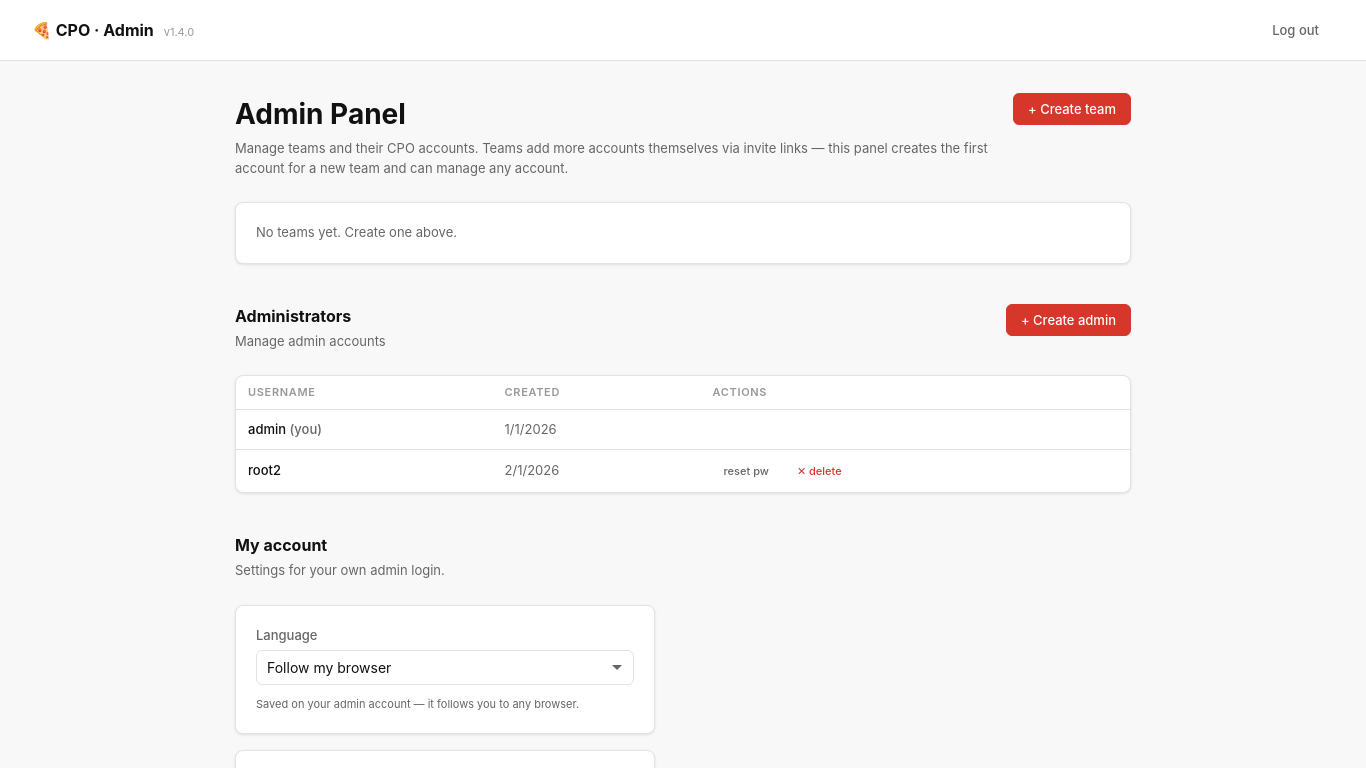
Test: AdminPanel › creating a team › hides form after successful create
Click the button "+ Create team".
click(1072, 109)  # box [1013, 93, 1131, 125]
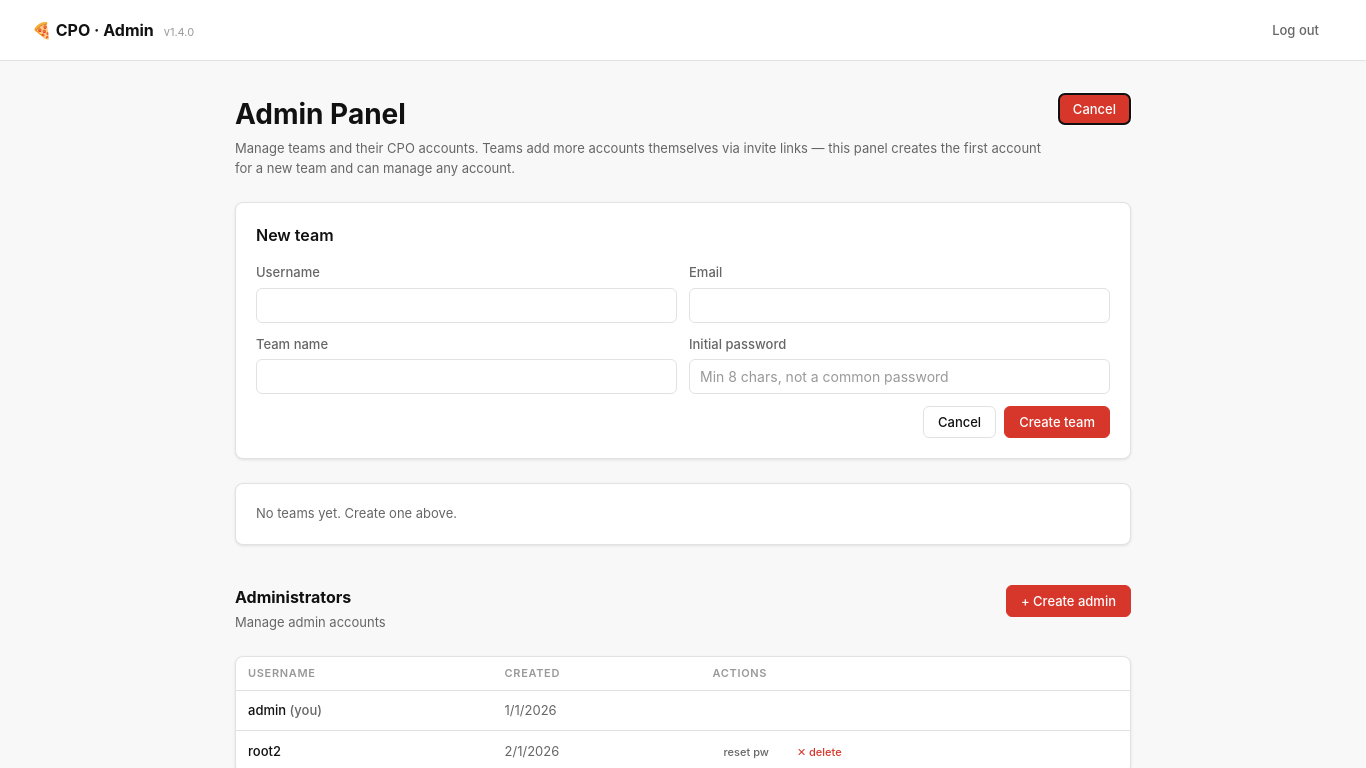
Type "newcpo" into the field labelled "Username".
click(466, 305); type("newcpo")  # box [256, 288, 677, 322]
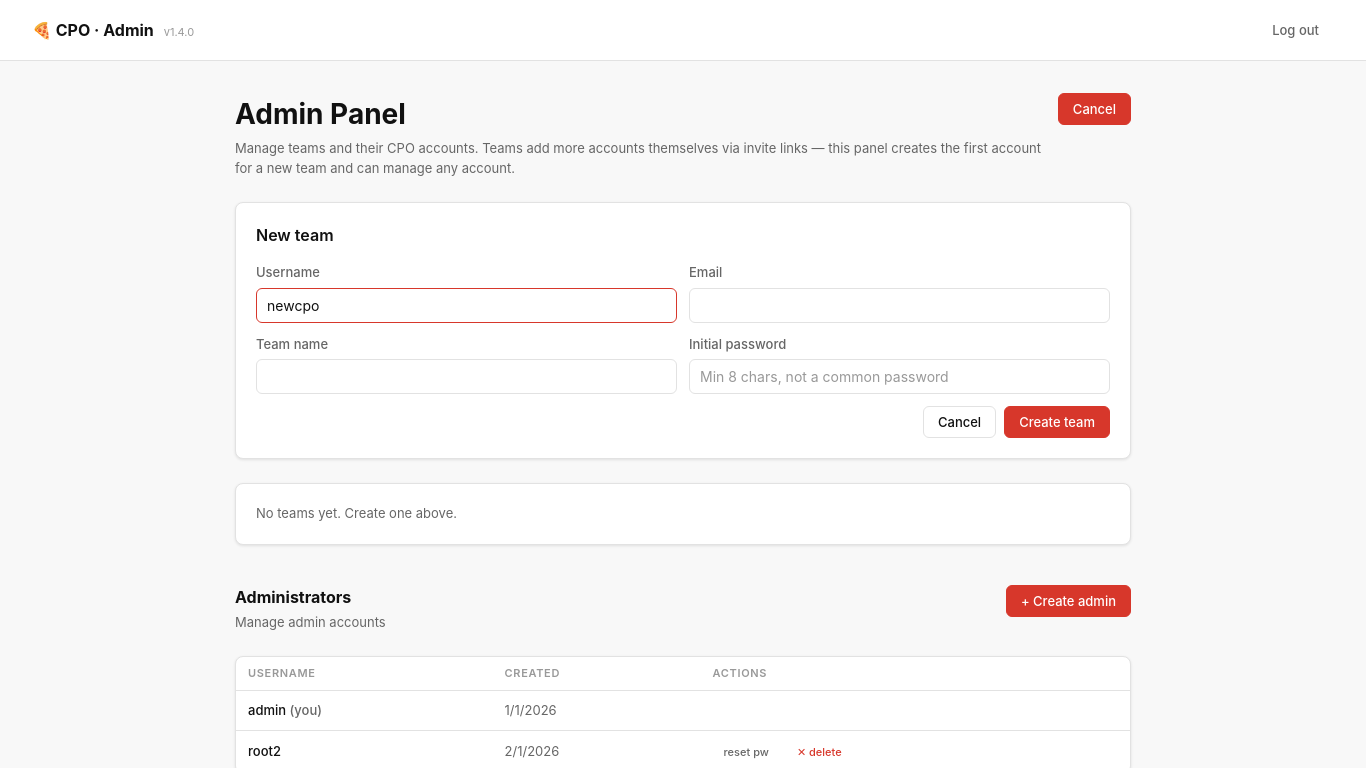
Type "newcpo@example.com" into the field labelled "Email".
click(900, 305); type("newcpo@example.com")  # box [689, 288, 1110, 322]
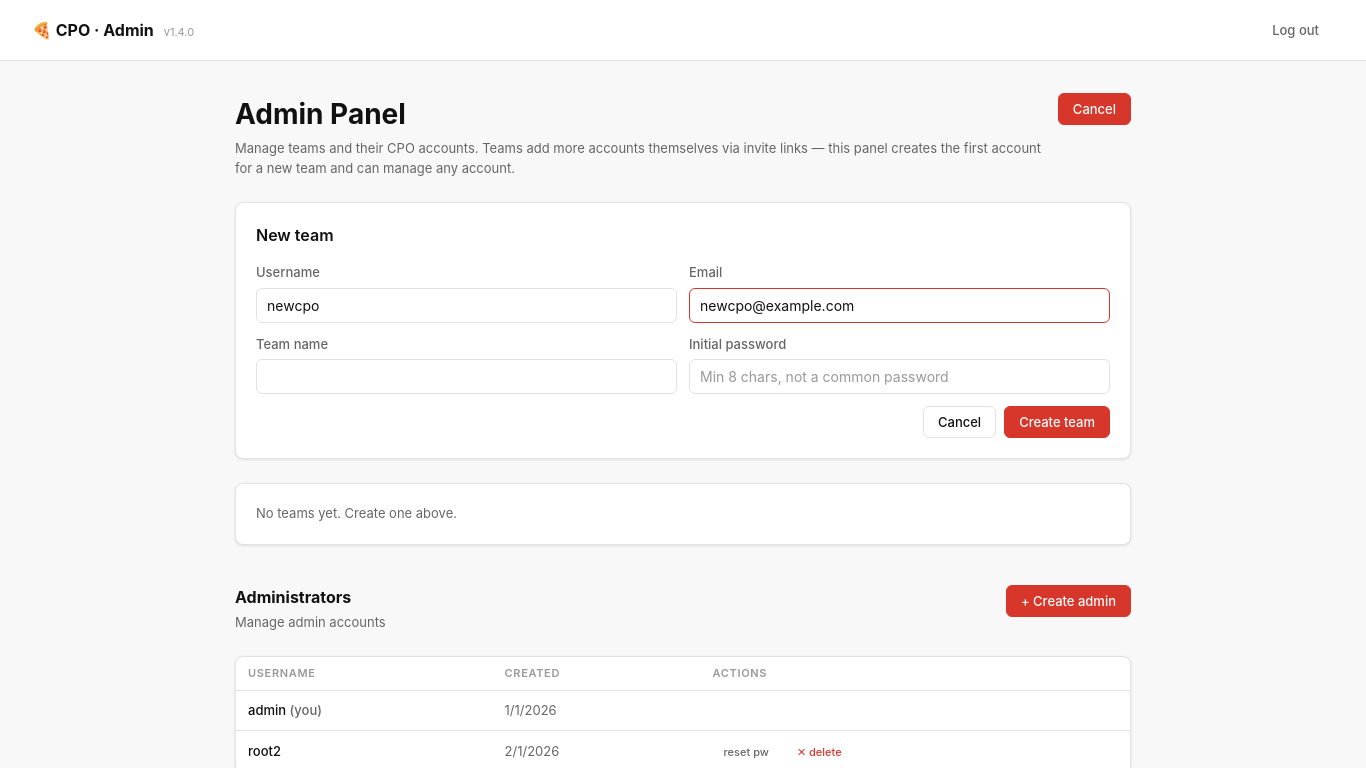
Type "New Team" into the field labelled "Team name".
click(466, 376); type("New Team")  # box [256, 359, 677, 394]
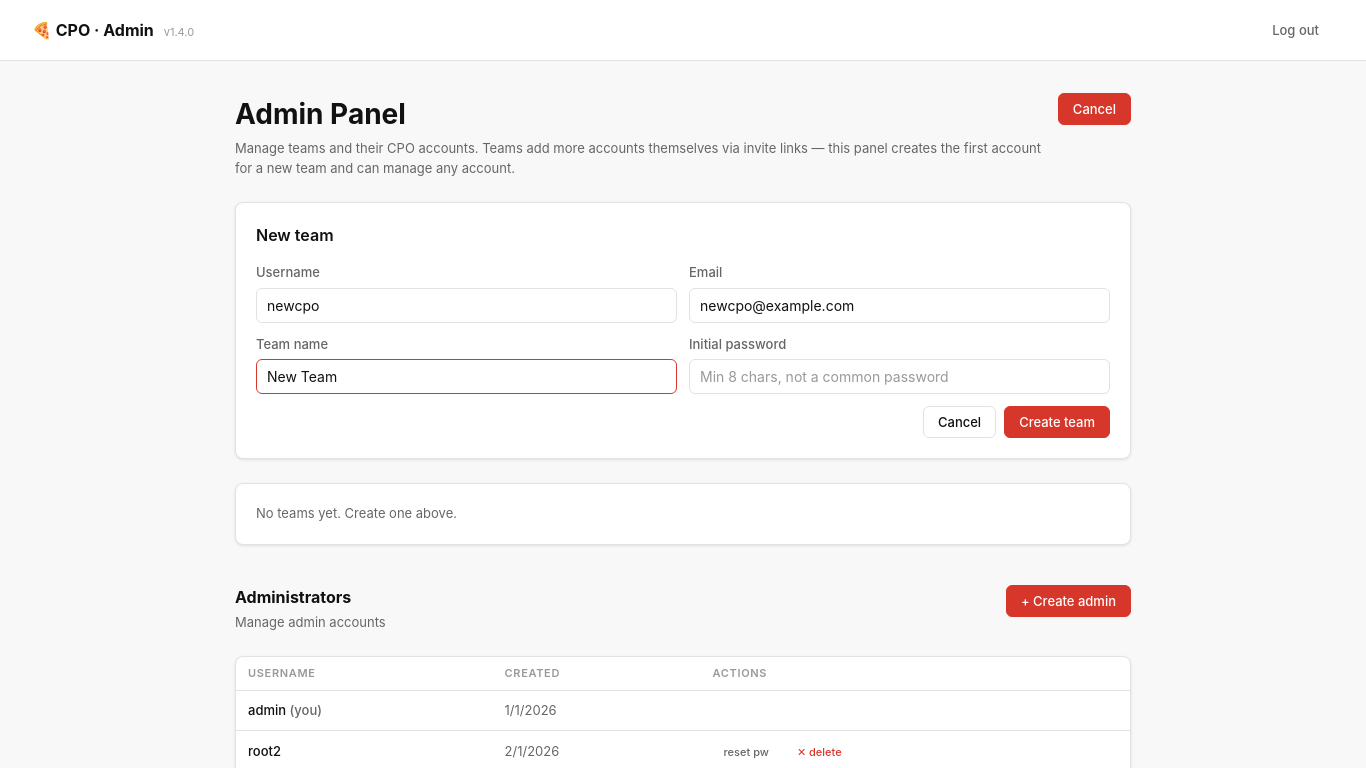
Type "secret123" into the password field labelled "Initial password".
click(900, 376); type("secret123")  # box [689, 359, 1110, 394]
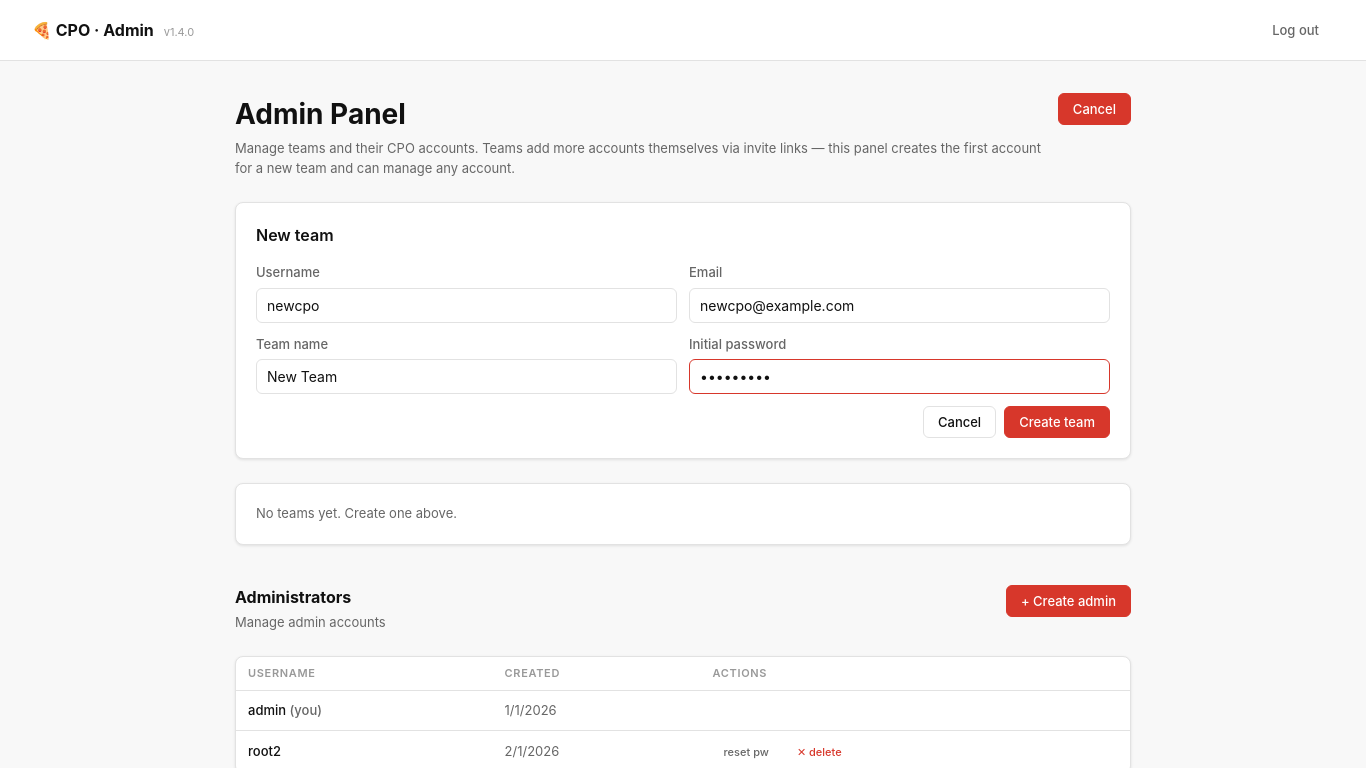
Click the button "Create team".
click(1057, 422)  # box [1004, 406, 1110, 438]
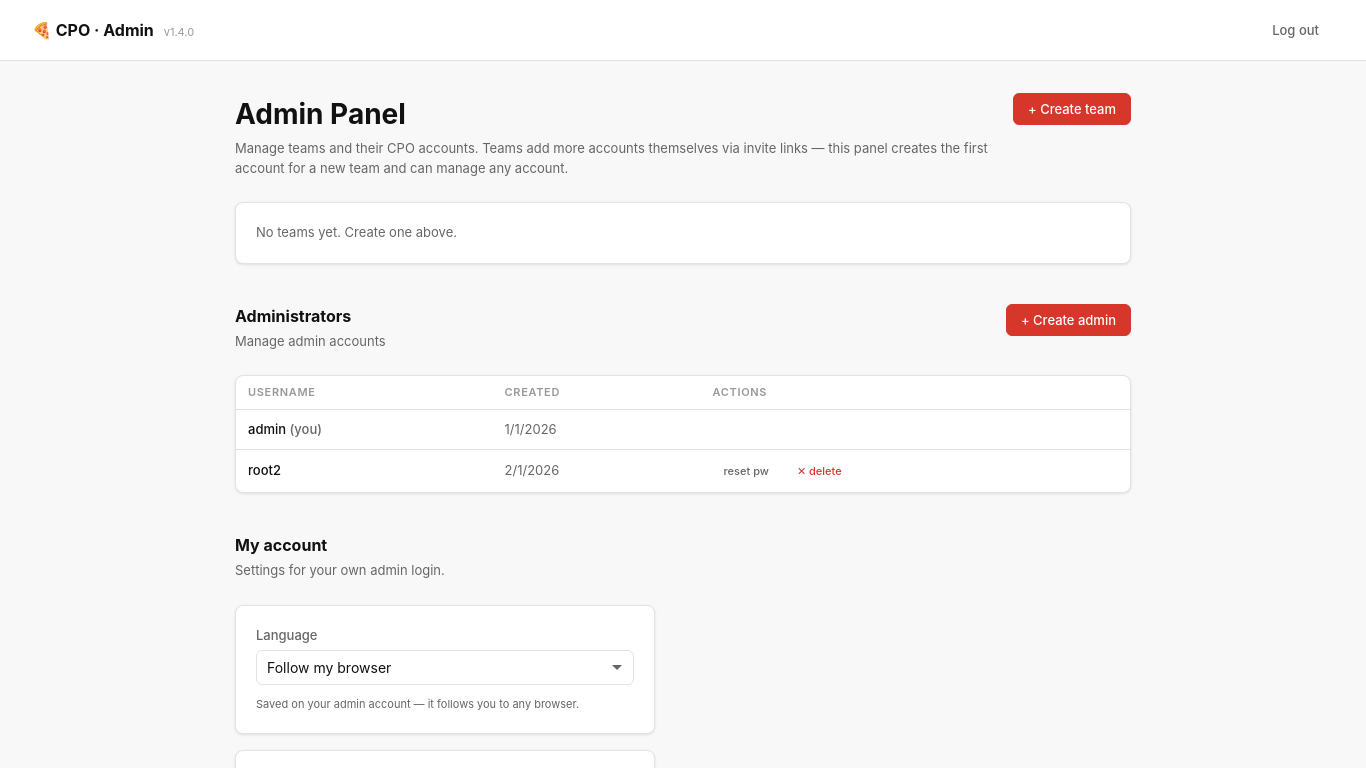
expect the button "+ Create team" is shown: met, box [1013, 93, 1131, 125]
